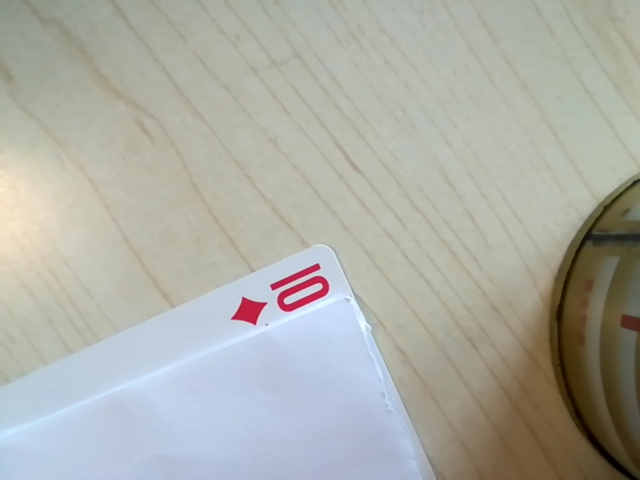fk 10: (218, 262, 341, 330)
